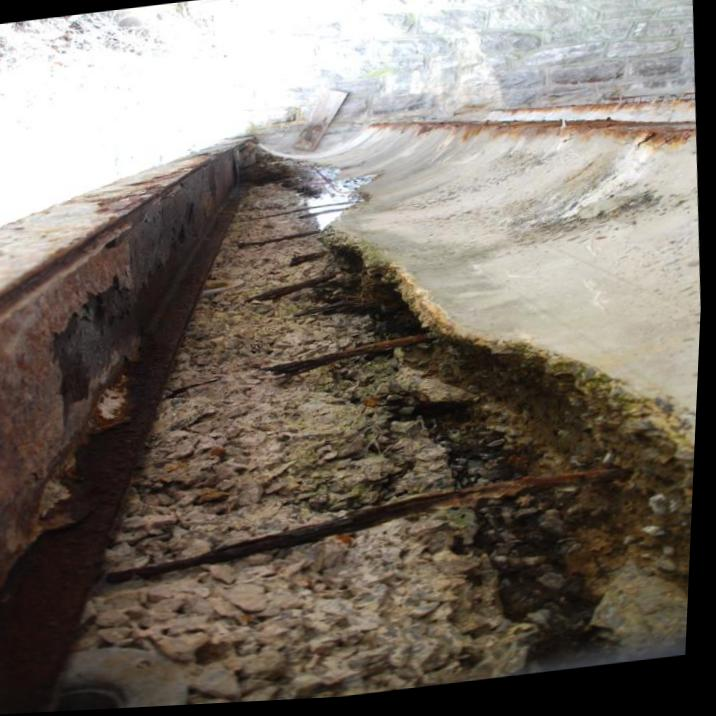damage: (59, 149, 701, 713)
